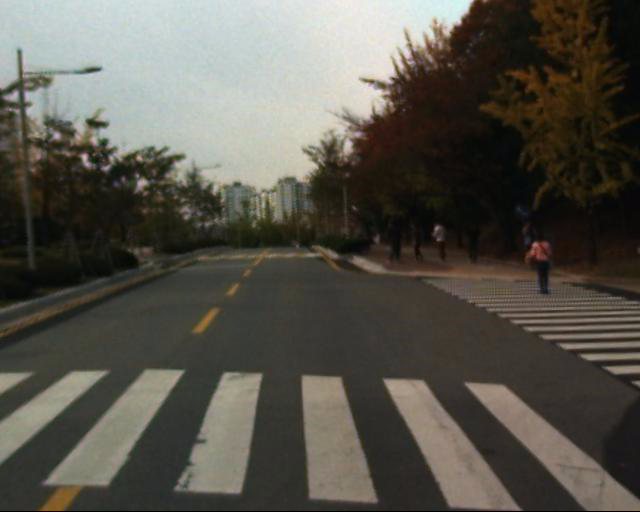person: (530, 229, 557, 300), (467, 219, 489, 268), (432, 215, 453, 266), (525, 222, 545, 271), (385, 219, 406, 265), (408, 221, 429, 265)
